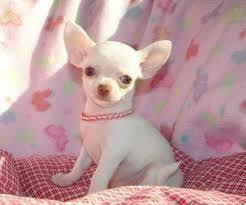chihuahua: (54, 16, 187, 204)
